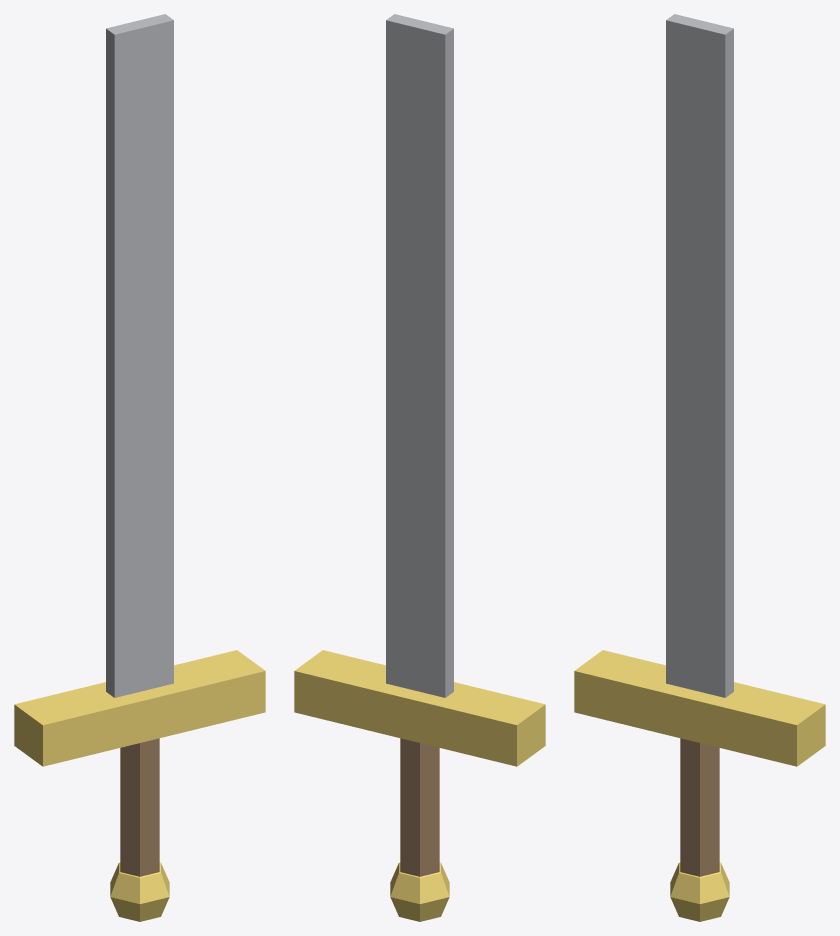
File: espada.glb
The picture shows the model from 3 angles, left to right: view 1: azimuth 30°, elevation 25°; view 2: azimuth 150°, elevation 25°; view 3: azimuth 330°, elevation 25°; orthographic projection.
Parts seen in each view (by area): view 1: espada; view 2: espada; view 3: espada.
Part boxes in pixels (x1,y1,x2,y2): espada: (14, 14, 265, 921); espada: (294, 14, 545, 921); espada: (574, 14, 825, 921).
Size of the model in its own units: 0.45 by 1.73 by 0.1039.
